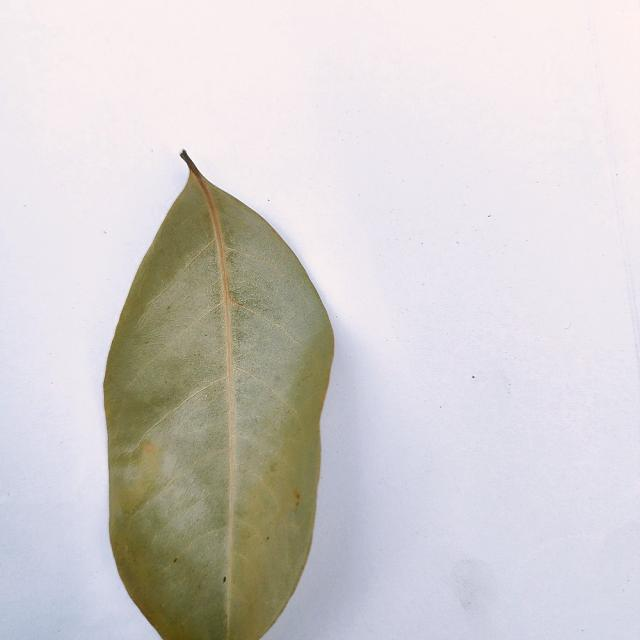Dry_Leaf-Lychee: (102, 153, 336, 639)
